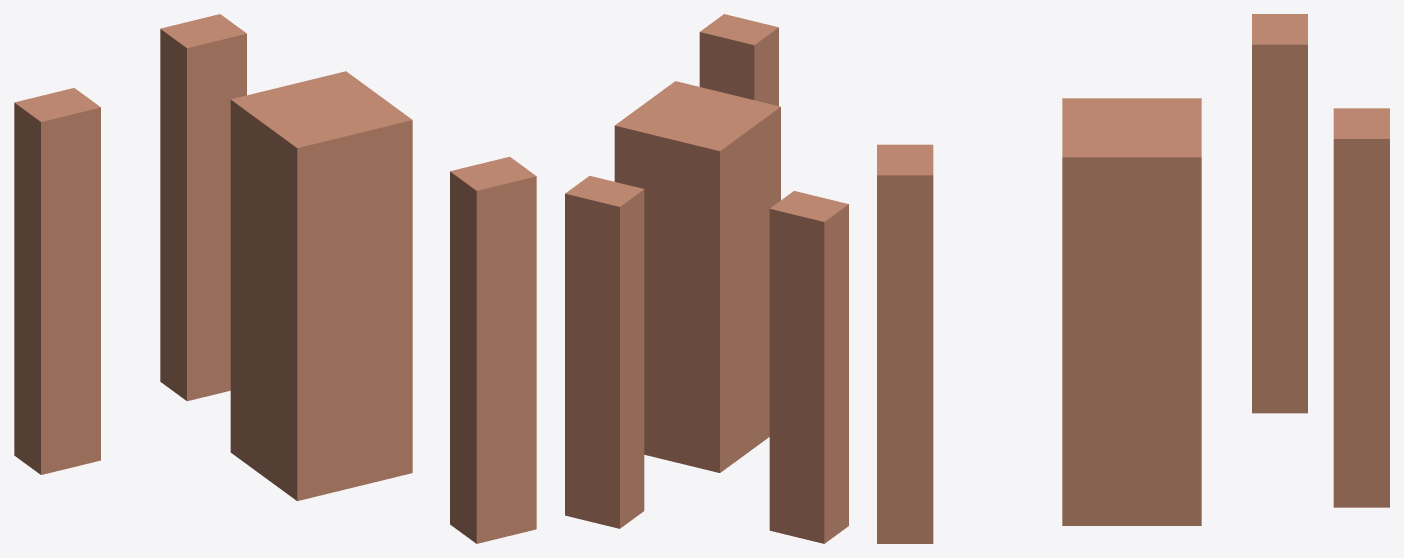
Rendered from floor_prometeo.dae.
3 views of the same model, side by side, from view 1: azimuth 30°, elevation 25°; view 2: azimuth 150°, elevation 25°; view 3: azimuth 270°, elevation 25° (orthographic). The views are drawn at different scales.
Visible parts, largest first — view 1: Cube, Cube_003, Cube_001, Cube_002; view 2: Cube, Cube_001, Cube_002, Cube_003; view 3: Cube, Cube_002, Cube_003, Cube_001.
Boxes of the visible parts, box(x1,y1,x2,y2) form: Cube: box(230, 71, 412, 501); Cube_003: box(450, 156, 536, 543); Cube_001: box(14, 88, 100, 474); Cube_002: box(160, 14, 246, 401); Cube: box(614, 81, 780, 472); Cube_001: box(769, 191, 848, 543); Cube_002: box(565, 175, 644, 528); Cube_003: box(699, 14, 778, 106); Cube: box(1062, 98, 1201, 525); Cube_002: box(1333, 108, 1389, 507); Cube_003: box(877, 144, 933, 543); Cube_001: box(1252, 14, 1307, 413).
Size of what is drawn, in the model's own units: 5.47 by 7.36 by 5.84.
